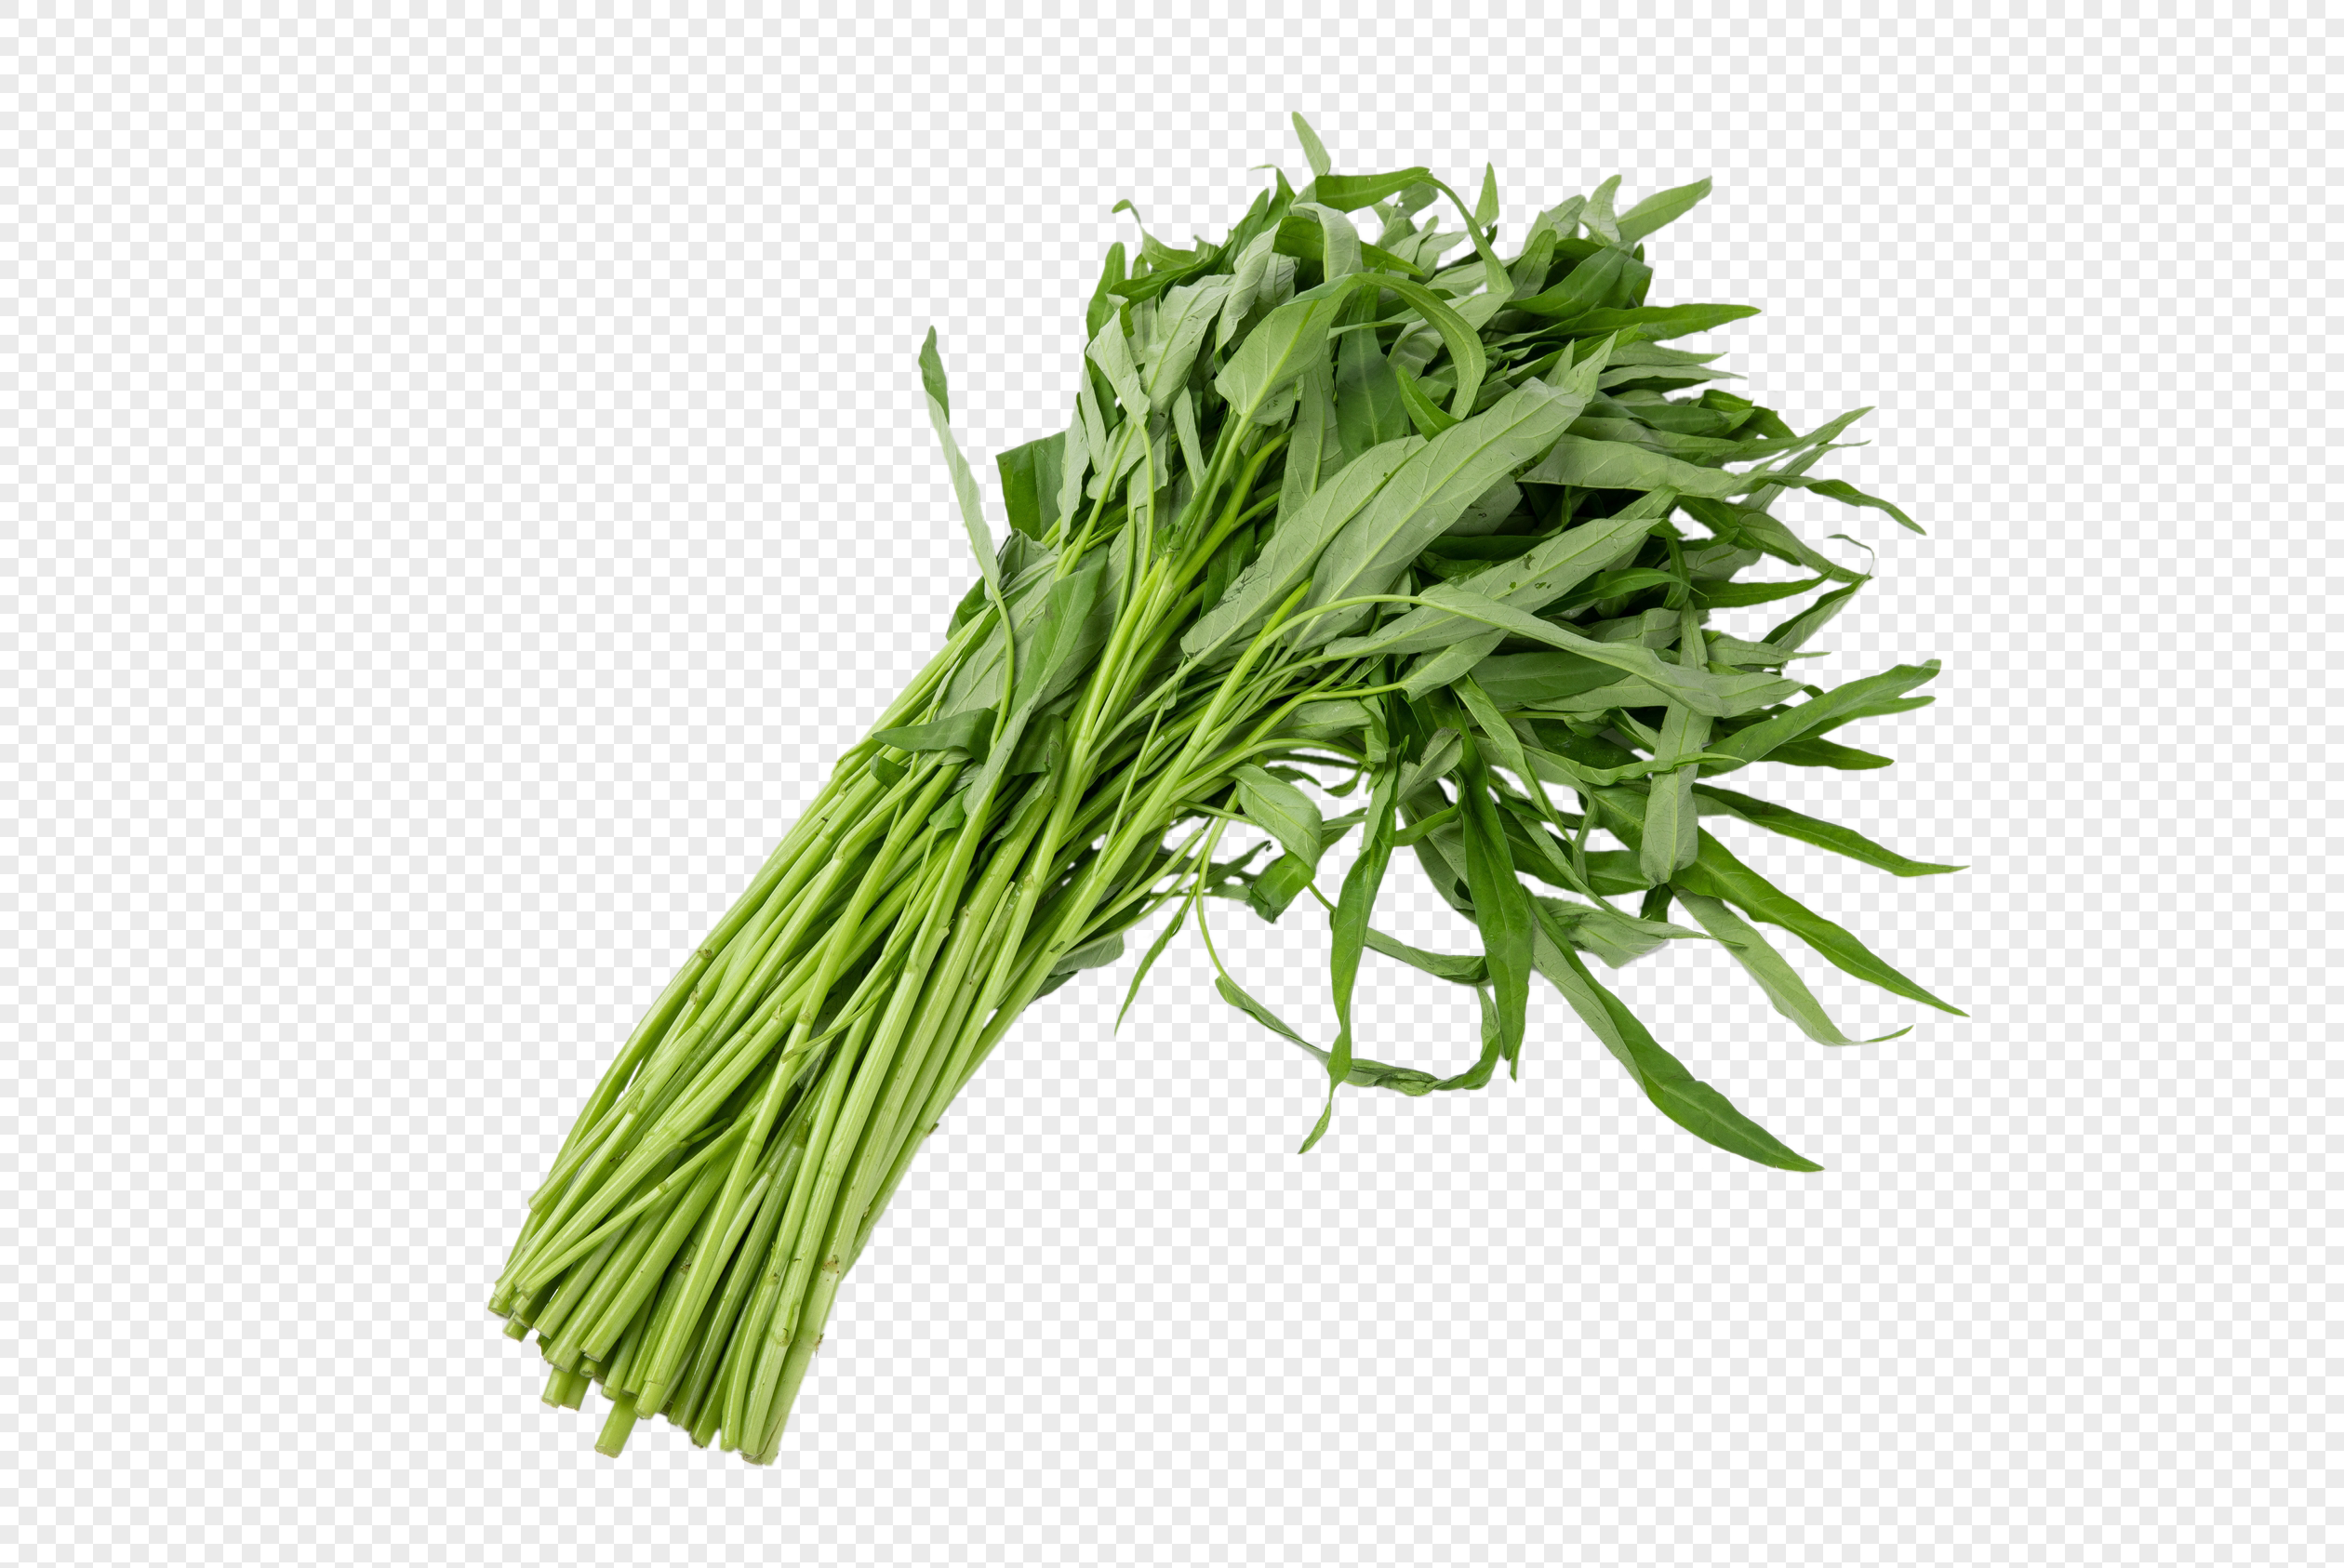Kangkung: (410, 170, 2064, 1487)
